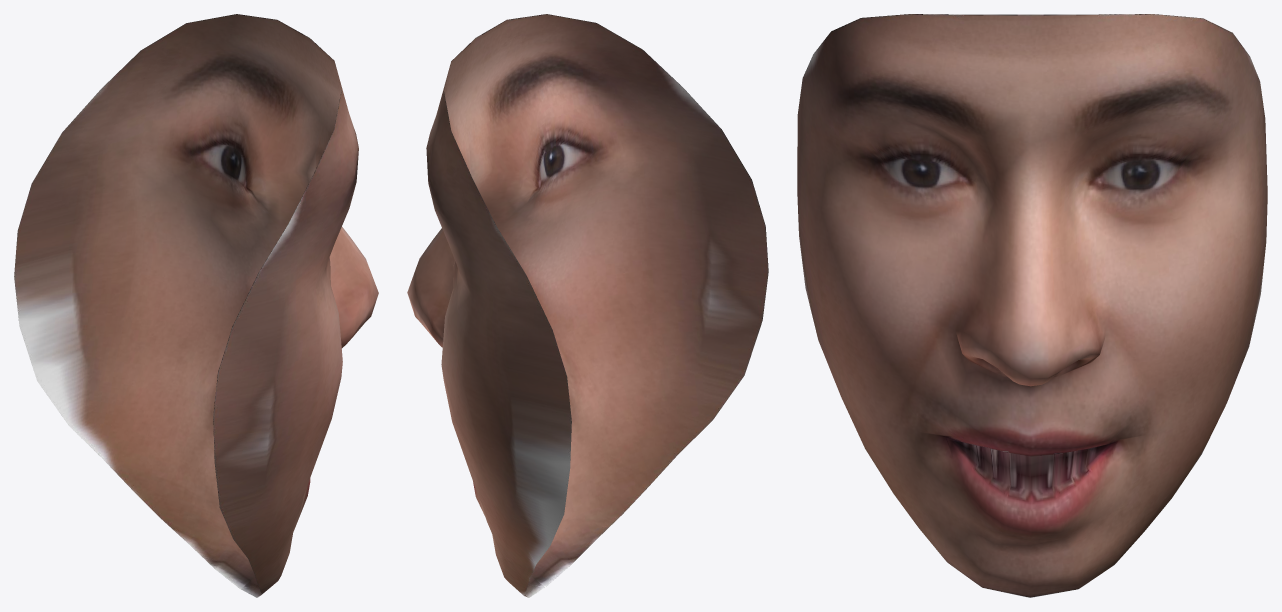
Rendered from youtube_mukbang.glb.
3 views of the same model, side by side, from view 1: azimuth 30°, elevation 25°; view 2: azimuth 150°, elevation 25°; view 3: azimuth 270°, elevation 25° (orthographic). The views are drawn at different scales.
Parts seen in each view (by area): view 1: youtube_mukbang; view 2: youtube_mukbang; view 3: youtube_mukbang.
Part boxes in pixels (x1,y1,x2,y2): youtube_mukbang: (14,14,378,597); youtube_mukbang: (407,14,768,597); youtube_mukbang: (797,14,1267,597).
Bounding box in the file's own units: 0.4429 × 0.8765 × 0.5999.
1 material, 1 textured.
